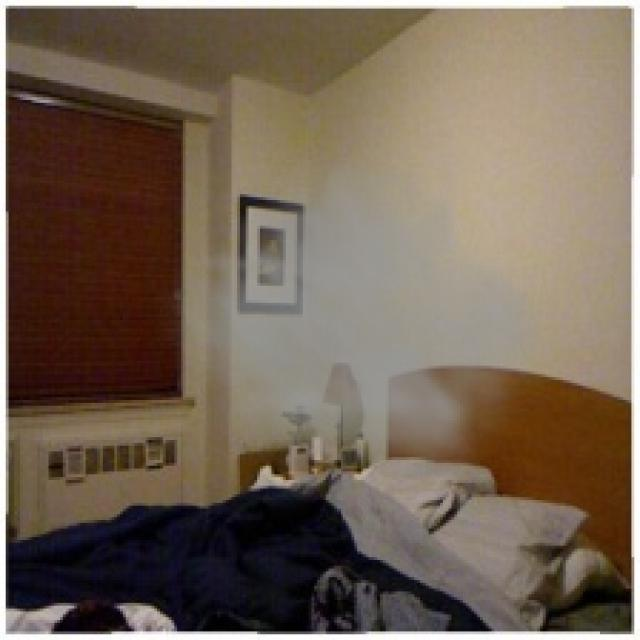Smoke: (151, 122, 566, 478)
